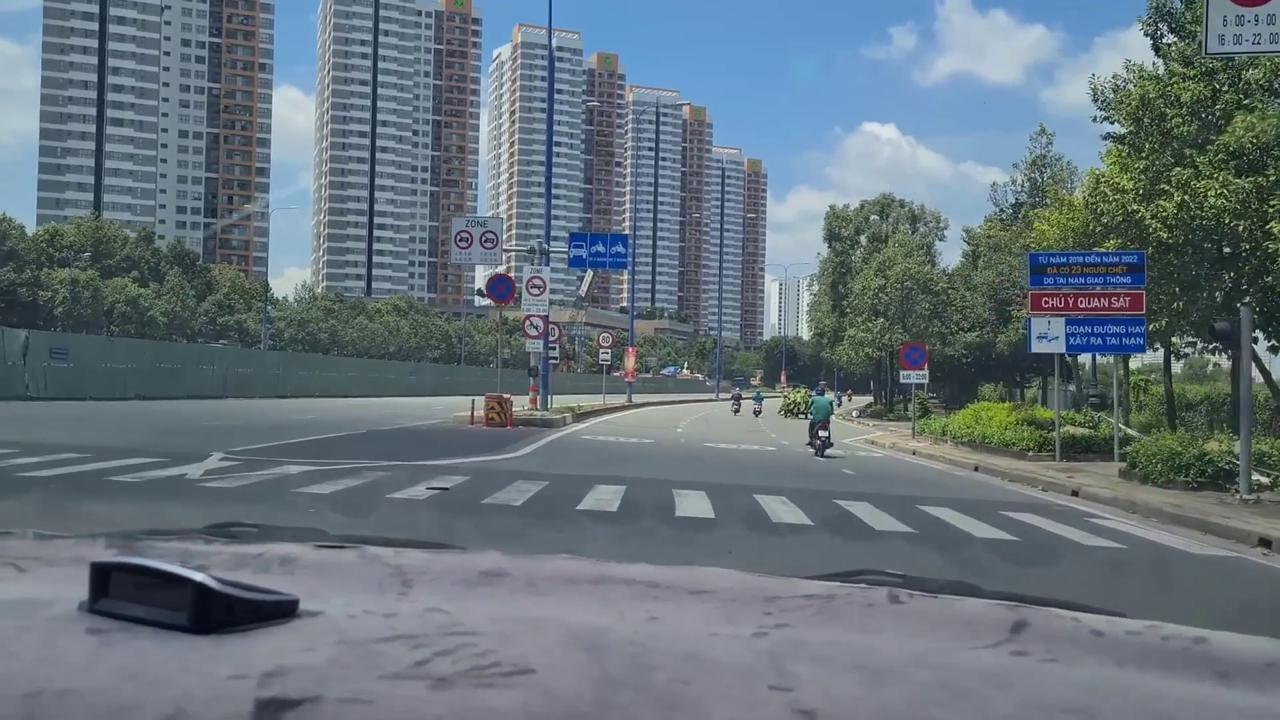Biển phụ: (898, 368, 931, 383), (598, 348, 611, 364)
Cấm cac phương tiện hoạt động trong khung giờ cố định: (447, 214, 504, 266), (522, 264, 550, 316)
Cấm dừng - Cấm đỗ: (484, 270, 517, 306), (897, 340, 929, 369)
Cấm xe máy: (520, 314, 548, 340)
Giới hạn tốc độ 80Km/h: (597, 330, 615, 349)
Khác: (1025, 247, 1150, 354)
Làn đường cho từng xe: (566, 231, 630, 270)
